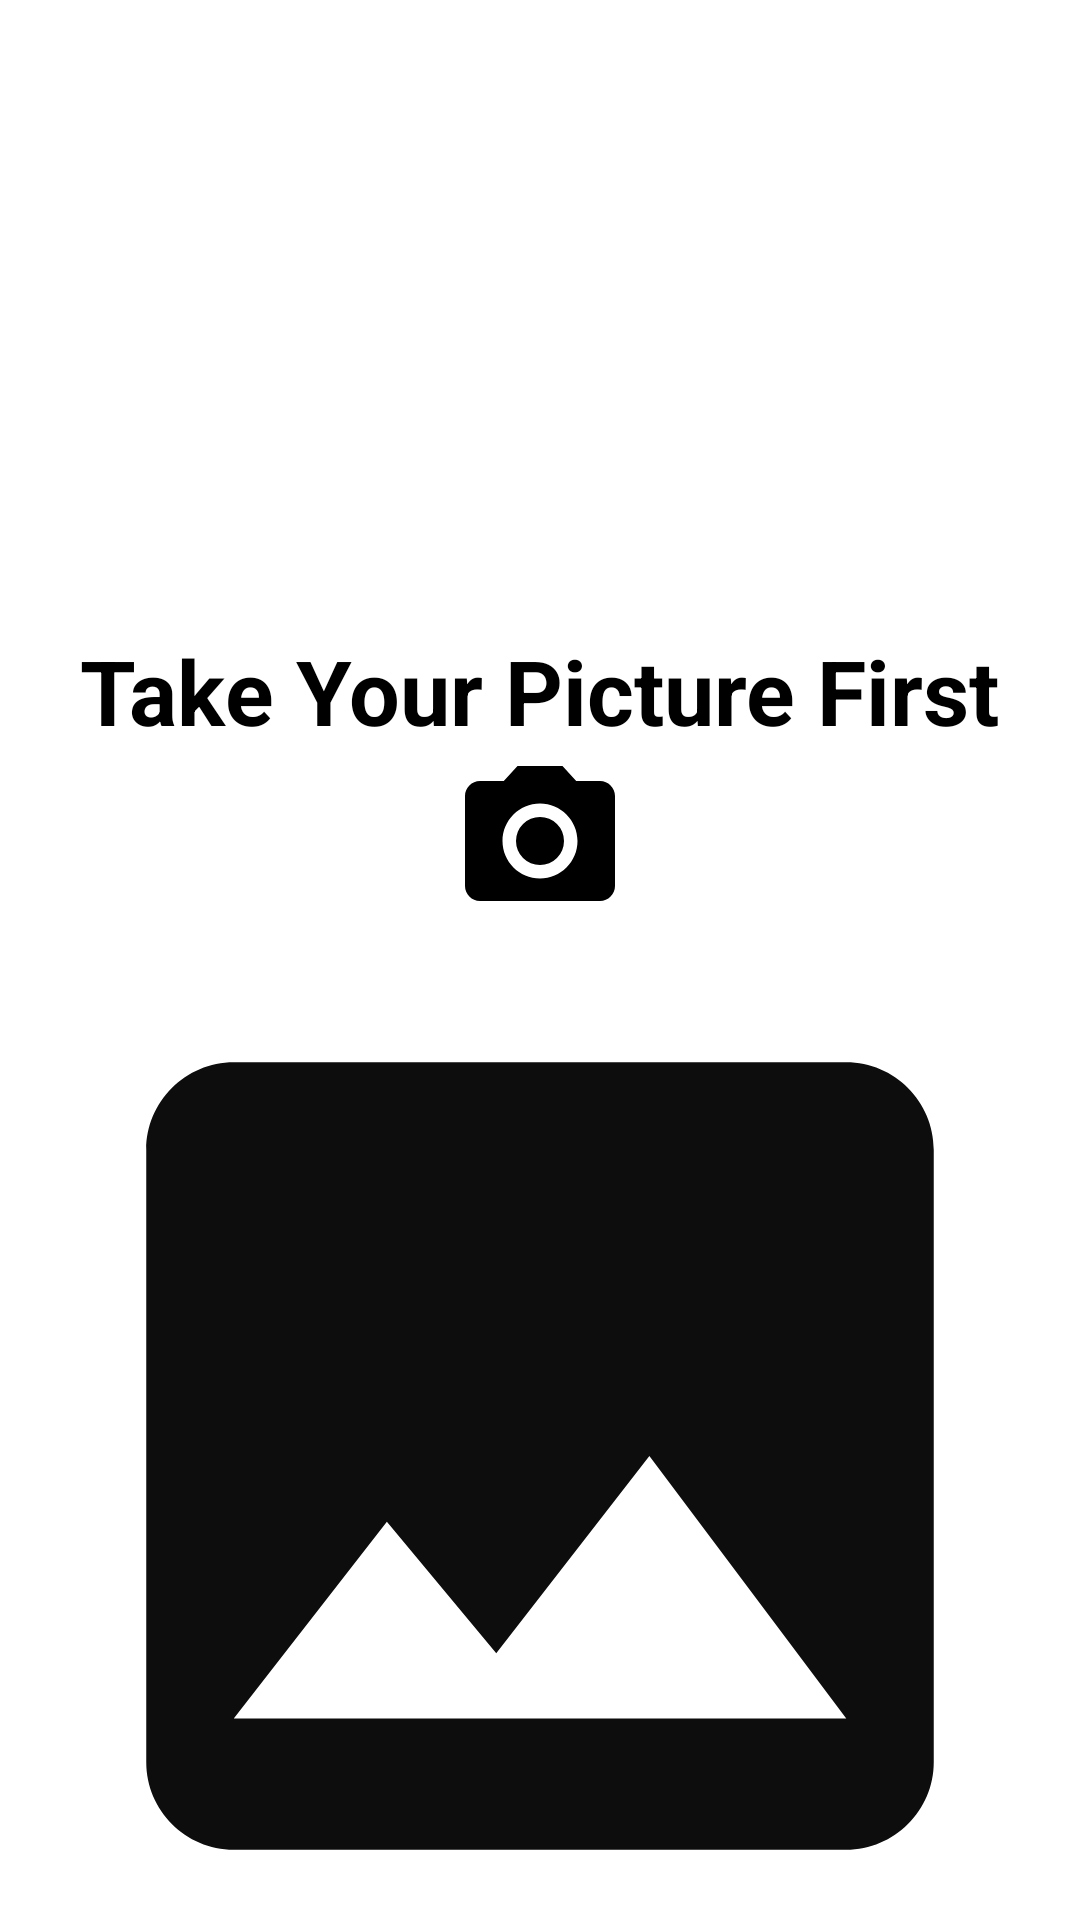

Named icons in this screenshot (1080px×1920px) and their centers, [x,y]:
camera: [540,833]
